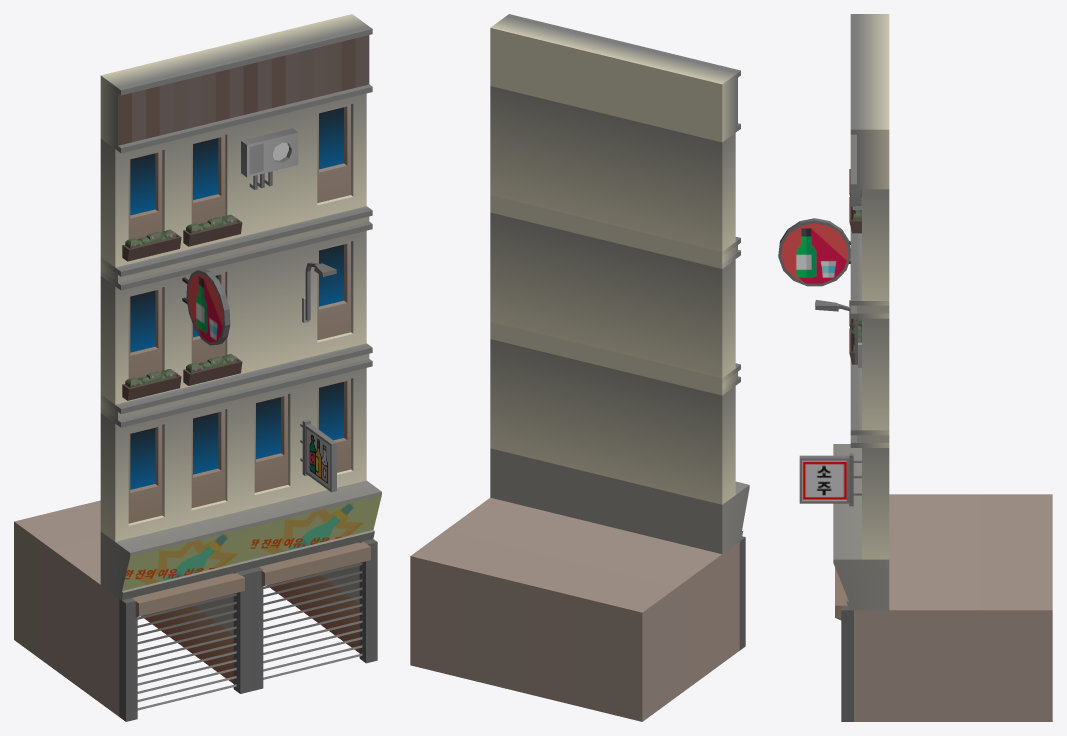
File: B02_Facade-6-A.fbx
3 renders of one model, left to right at view 1: azimuth 30°, elevation 25°; view 2: azimuth 150°, elevation 25°; view 3: azimuth 270°, elevation 25°, orthographic. The views are drawn at different scales.
Parts seen in each view (by area): view 1: B02_Facade-6-A; view 2: B02_Facade-6-A; view 3: B02_Facade-6-A.
Part boxes in pixels (bbox=[...]): B02_Facade-6-A: bbox=[14, 14, 381, 721]; B02_Facade-6-A: bbox=[410, 14, 749, 721]; B02_Facade-6-A: bbox=[778, 14, 1052, 721].
Size of the model in its own units: 750 by 1789 by 751.
